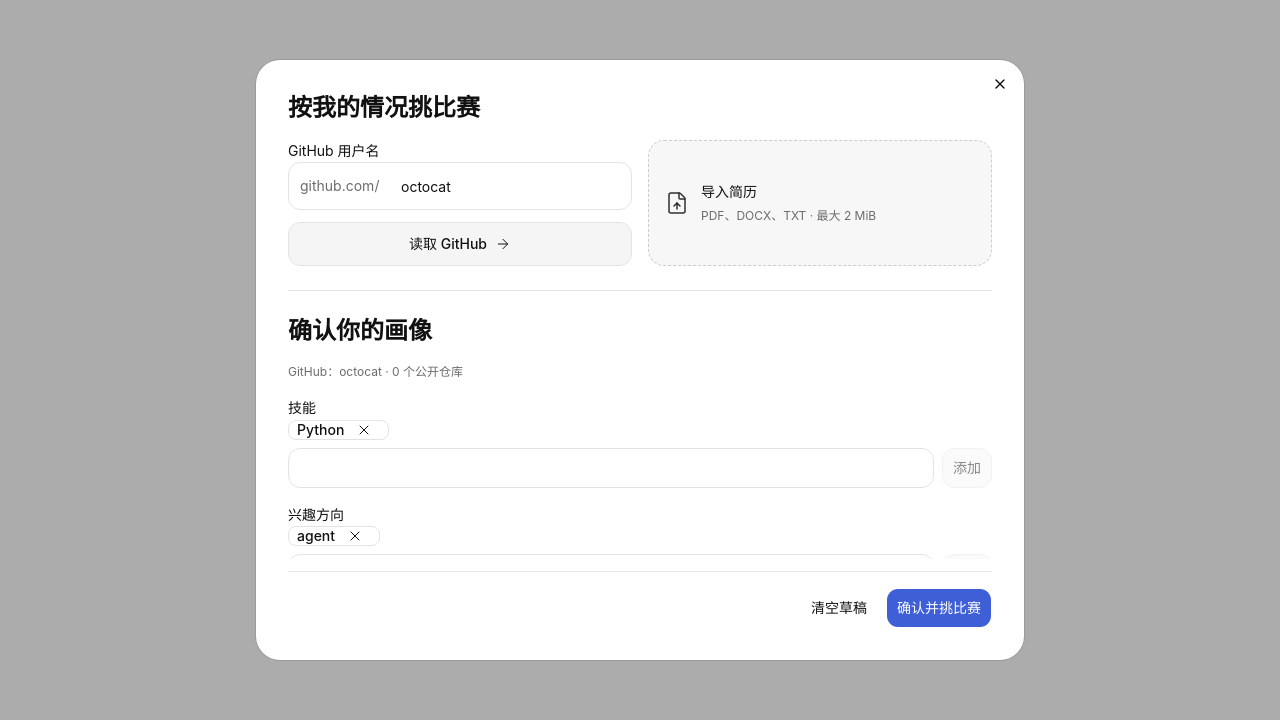
Scenario: profile confirmation › confirms an account profile before requesting matches
The width and height of the screenshot is (1280, 720).
Step 1. Click the button "确认并挑比赛" → (939, 608), box [886,588,992,628]
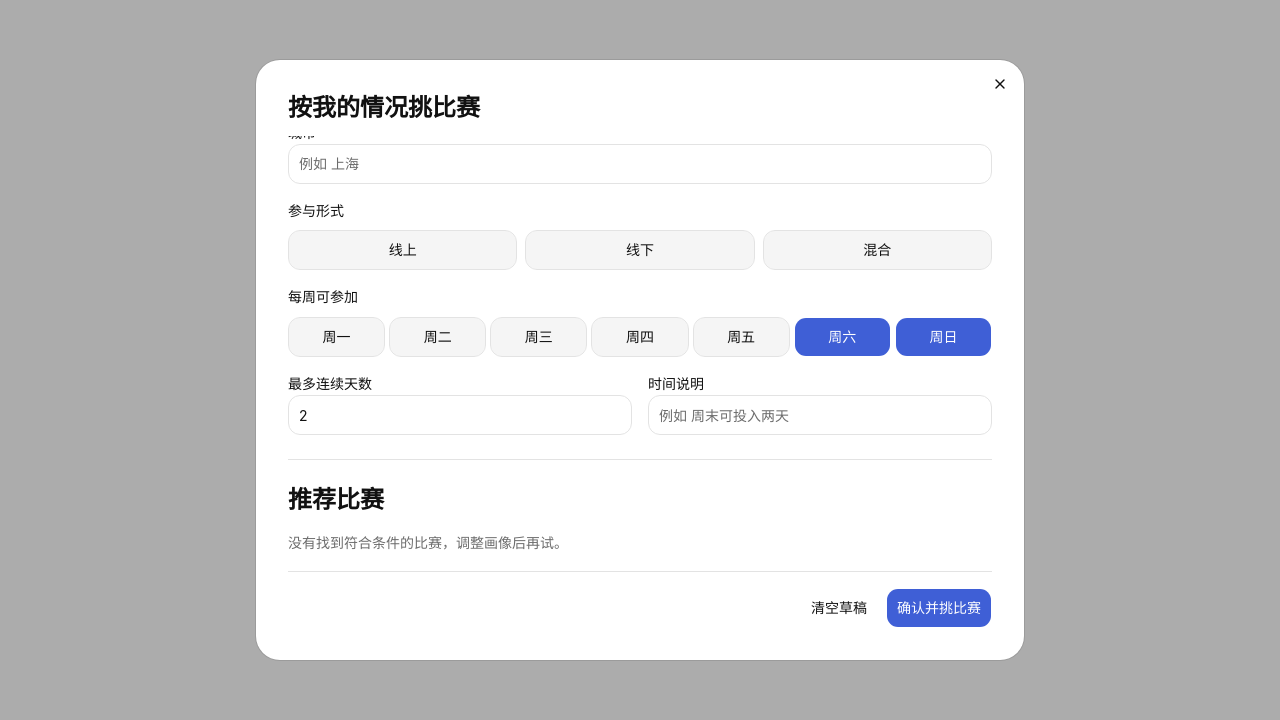
Result: the text "没有找到符合条件的比赛，调整画像后再试。" is shown at [288,534,568,551]
